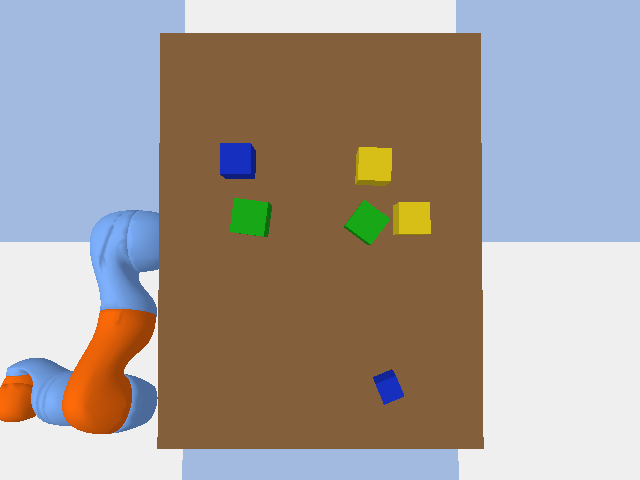blue_obj: (220, 143, 255, 178), (373, 369, 403, 404)
green_obj: (344, 200, 389, 244), (229, 198, 271, 236)
yellow_obj: (355, 147, 391, 185), (393, 202, 430, 234)
